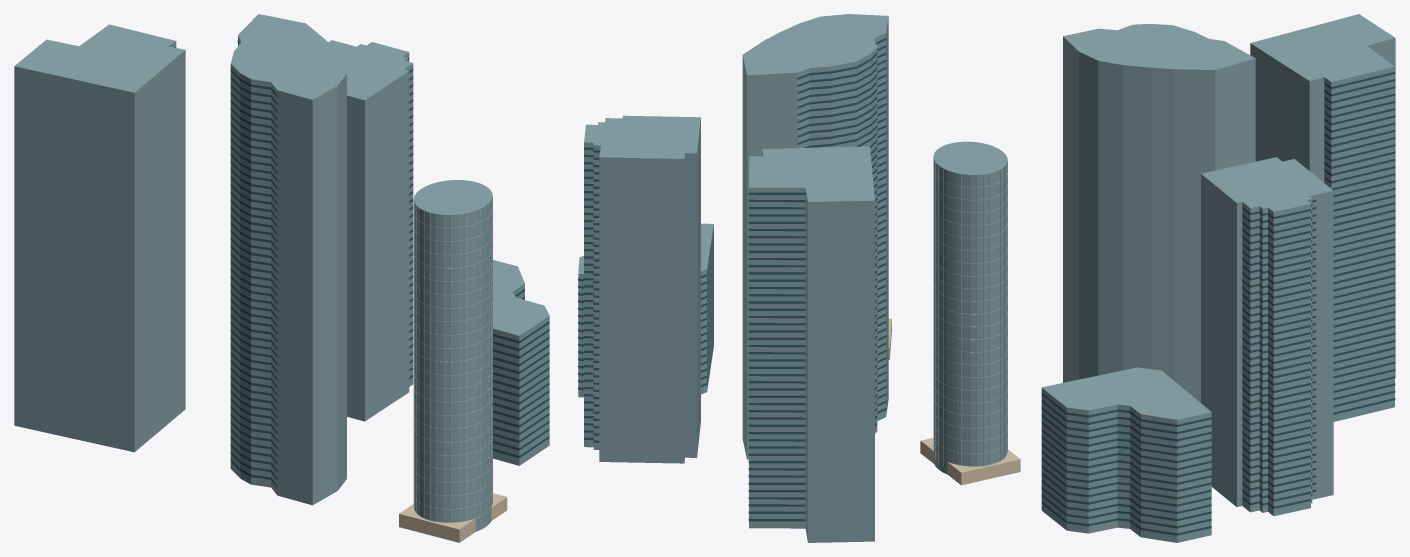
Rendered from city_5_0.glb.
3 views of the same model, side by side, from view 1: azimuth 30°, elevation 25°; view 2: azimuth 150°, elevation 25°; view 3: azimuth 270°, elevation 25° (orthographic). The views are drawn at different scales.
Parts seen in each view (by area): view 1: city_5_0; view 2: city_5_0; view 3: city_5_0.
Part boxes in pixels (x1,y1,x2,y2): city_5_0: [14, 14, 549, 542]; city_5_0: [578, 14, 891, 542]; city_5_0: [920, 14, 1395, 542].
Size of the model in its own units: 223 by 212 by 238.
